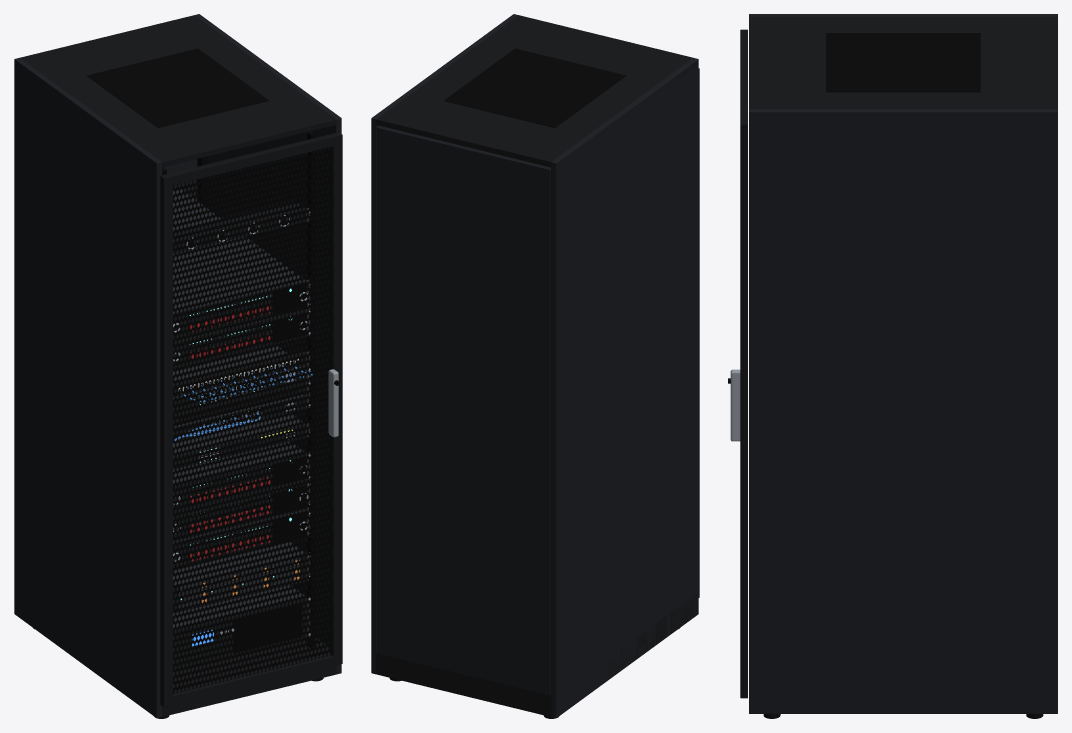
File: rack.glb
The picture shows the model from 3 angles, left to right: view 1: azimuth 30°, elevation 25°; view 2: azimuth 150°, elevation 25°; view 3: azimuth 270°, elevation 25°; orthographic projection. The views are drawn at different scales.
Visible parts, largest first — view 1: back, door_mesh, plinth, door_frame_B, brush_face, brush_ear-1, top_vent, rail_F-1, server_b_bezel, server_a_tabs, brush_screw-1-0.010, jumper_0 (+1 smaller); view 2: back, plinth, top_vent, door_frame_B; view 3: back, plinth, top_vent, door_frame_B, door_handle.
Boxes of the visible parts, box(x1,y1,x2,y2) form: back: box(14, 14, 341, 718); door_mesh: box(173, 147, 331, 693); plinth: box(20, 15, 340, 716); door_frame_B: box(160, 132, 342, 707); brush_face: box(173, 201, 307, 669); brush_ear-1: box(173, 189, 310, 637); top_vent: box(87, 48, 306, 653); rail_F-1: box(162, 131, 315, 647); server_b_bezel: box(173, 482, 305, 541); server_a_tabs: box(190, 306, 270, 561); brush_screw-1-0.010: box(173, 211, 310, 635); jumper_0: box(173, 363, 312, 444); back: box(371, 14, 698, 718); plinth: box(374, 15, 698, 716); top_vent: box(444, 48, 626, 127); door_frame_B: box(698, 68, 699, 597); back: box(749, 14, 1057, 713); plinth: box(749, 16, 1057, 116); top_vent: box(826, 33, 980, 92); door_frame_B: box(740, 29, 747, 698); door_handle: box(730, 369, 740, 441).
Size of the model in its own units: 0.5999 by 1.75 by 0.854.
Materials: 18 (2 with a texture image).
